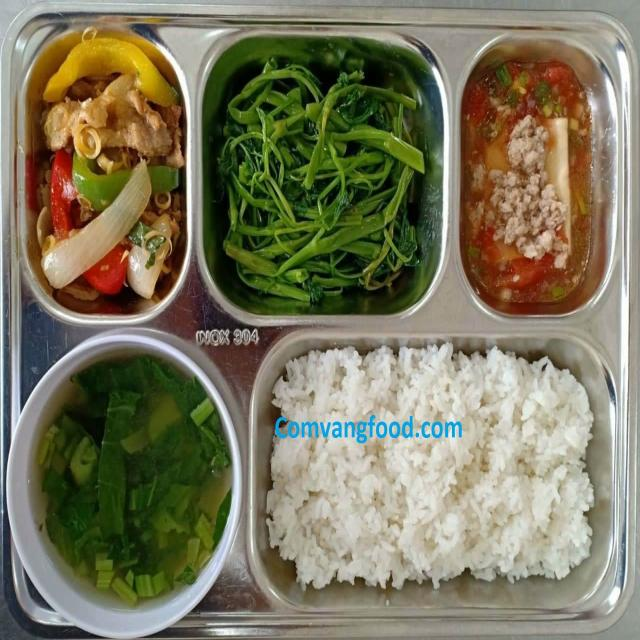bo xao: (44, 73, 183, 166)
canh cai: (40, 355, 232, 605)
com: (266, 344, 594, 588)
rau muong: (216, 58, 424, 304)
